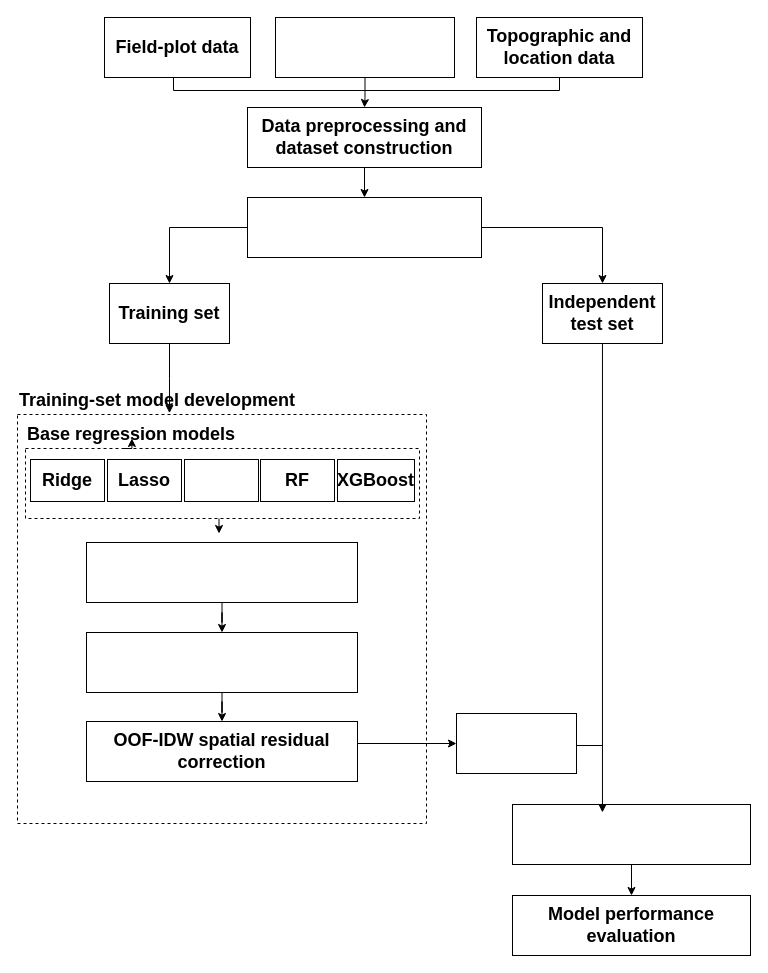
The diagram is 768 pixels wide and 973 high, and some of its shapes have lost their labels. The shapes that lost their labels are listed below. From the top down, each one's centre as x and y in pixels, then its label:
the point at 364,47: Sentinel-1 and Sentinel-2 data
the point at 364,227: Feature engineering
the point at 221,480: GBRT
the point at 222,572: OOF-based constrained weighted ensemble
the point at 222,662: Spatial-cluster local-global modelling
the point at 516,743: Final model development
the point at 631,834: Independent test-set prediction
